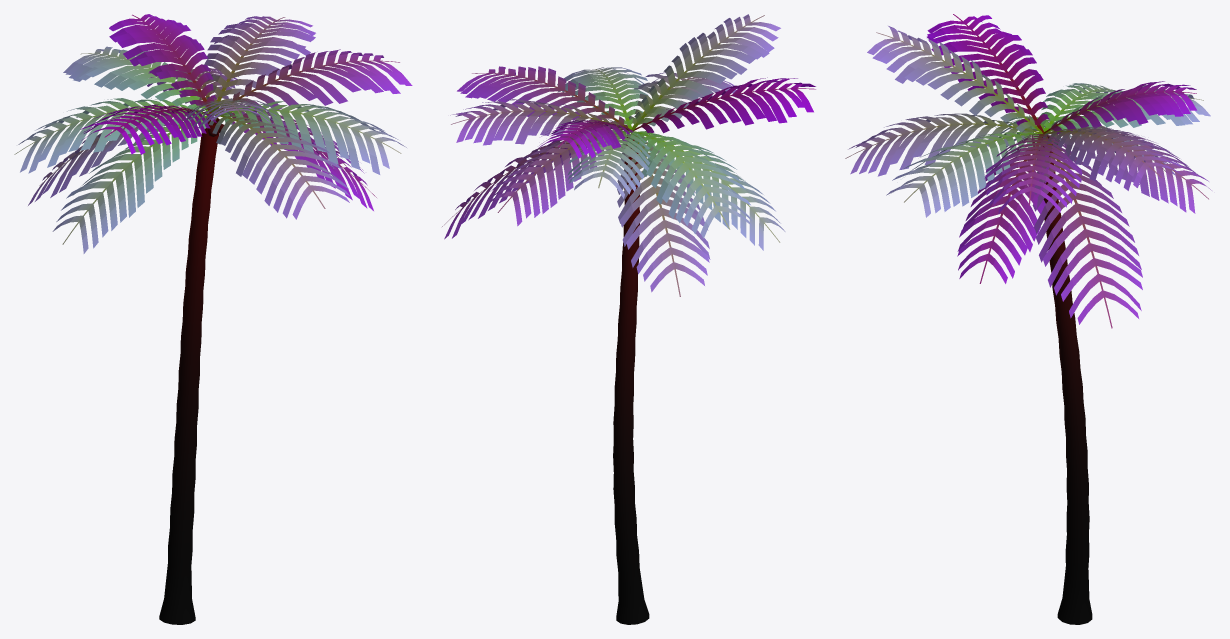
File: Palm2.fbx
The picture shows the model from 3 angles, left to right: view 1: azimuth 30°, elevation 25°; view 2: azimuth 150°, elevation 25°; view 3: azimuth 270°, elevation 25°; orthographic projection. The views are drawn at different scales.
Visible parts, largest first — view 1: Palm2; view 2: Palm2; view 3: Palm2.
Part boxes in pixels (bbox=[...]): Palm2: bbox=[14, 14, 412, 624]; Palm2: bbox=[442, 14, 815, 624]; Palm2: bbox=[845, 14, 1211, 624].
Size of the model in its own units: 9.21 by 14.96 by 8.87.
